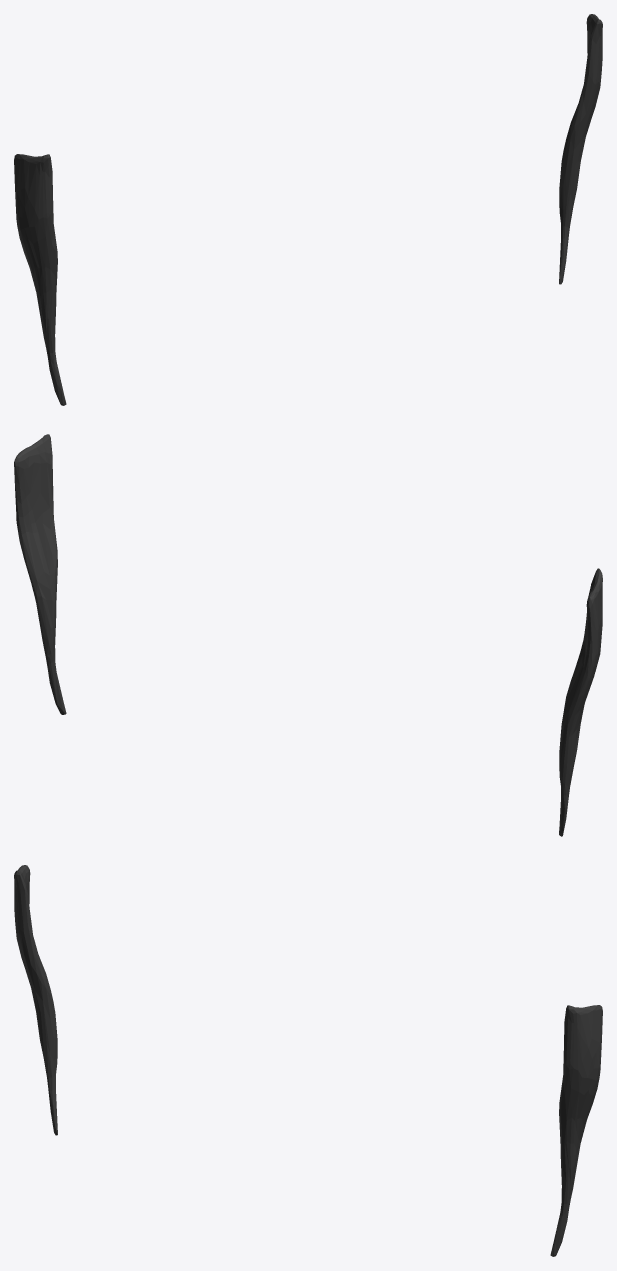
File: m_extensor_digitorum_brevis.glb
3 views of the same model, one above another, from view 1: azimuth 30°, elevation 25°; view 2: azimuth 150°, elevation 25°; view 3: azimuth 330°, elevation 25° (orthographic).
Visible parts, largest first — view 1: m_extensor_digitorum_brevis; view 2: m_extensor_digitorum_brevis; view 3: m_extensor_digitorum_brevis.
Boxes of the visible parts, x1,y1,x2,y2 form: m_extensor_digitorum_brevis: (14,14,602,405); m_extensor_digitorum_brevis: (14,434,602,836); m_extensor_digitorum_brevis: (14,865,602,1256).
Bounding box in the file's own units: 0.00528 × 0.0023 × 0.000355.
1 material, 1 textured.
